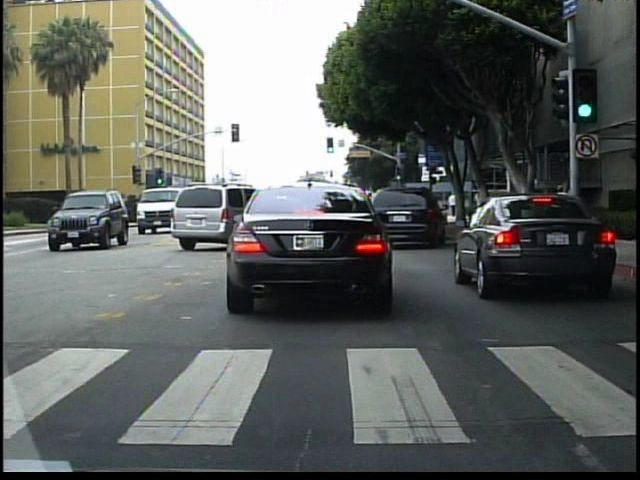person: (563, 175, 582, 235), (447, 188, 458, 220)
